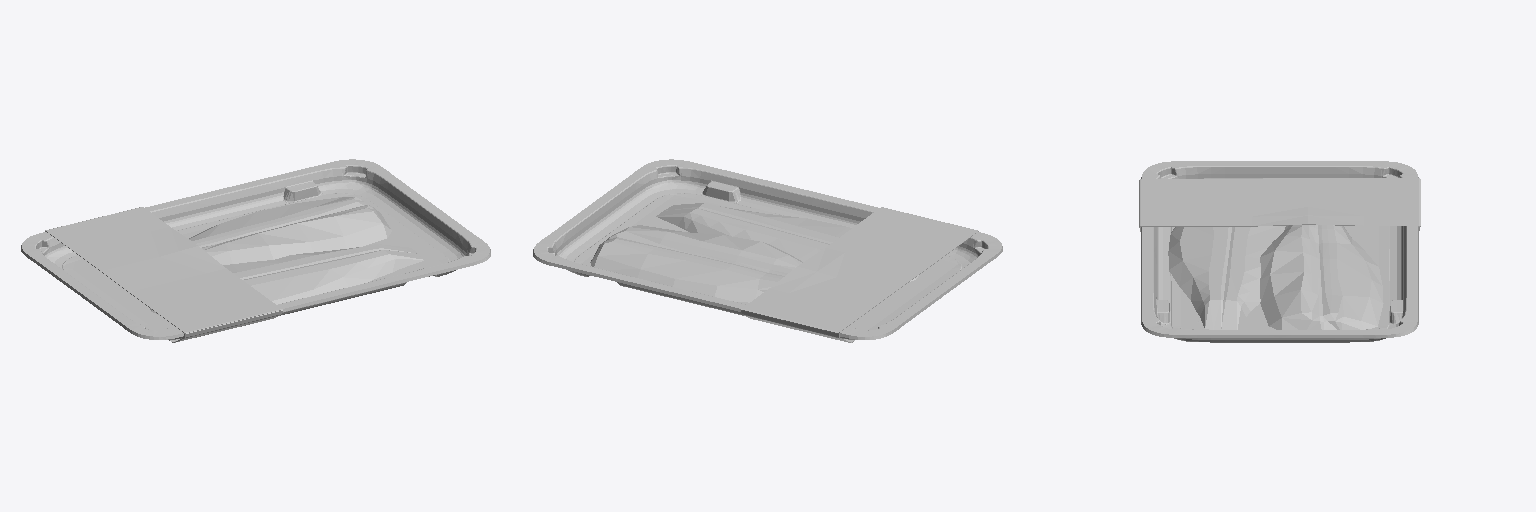
The model's file is pescao.obj.
3 views of the same model, side by side, from view 1: azimuth 30°, elevation 25°; view 2: azimuth 150°, elevation 25°; view 3: azimuth 270°, elevation 25° (orthographic).
Parts seen in each view (by area): view 1: Bandeja_Pelicula, Cinta, Peixe2_001, Peixe_001, Bandeja; view 2: Bandeja_Pelicula, Cinta, Peixe2_001, Peixe_001, Bandeja; view 3: Bandeja_Pelicula, Cinta, Peixe2_001, Peixe_001, Bandeja.
Boxes of the visible parts, x1=… form: Bandeja_Pelicula: x1=22, y1=159, x2=489, y2=335; Cinta: x1=45, y1=207, x2=282, y2=342; Peixe2_001: x1=189, y1=197, x2=391, y2=264; Peixe_001: x1=150, y1=244, x2=424, y2=314; Bandeja: x1=21, y1=167, x2=490, y2=339; Bandeja_Pelicula: x1=534, y1=159, x2=1001, y2=336; Cinta: x1=741, y1=207, x2=978, y2=342; Peixe2_001: x1=590, y1=225, x2=802, y2=302; Peixe_001: x1=656, y1=203, x2=918, y2=281; Bandeja: x1=533, y1=168, x2=1002, y2=339; Bandeja_Pelicula: x1=1142, y1=161, x2=1417, y2=334; Cinta: x1=1139, y1=178, x2=1420, y2=231; Peixe2_001: x1=1260, y1=225, x2=1383, y2=329; Peixe_001: x1=1168, y1=226, x2=1285, y2=329; Bandeja: x1=1141, y1=177, x2=1418, y2=342.
Bounding box in the file's own units: 261 × 14.85 × 178.